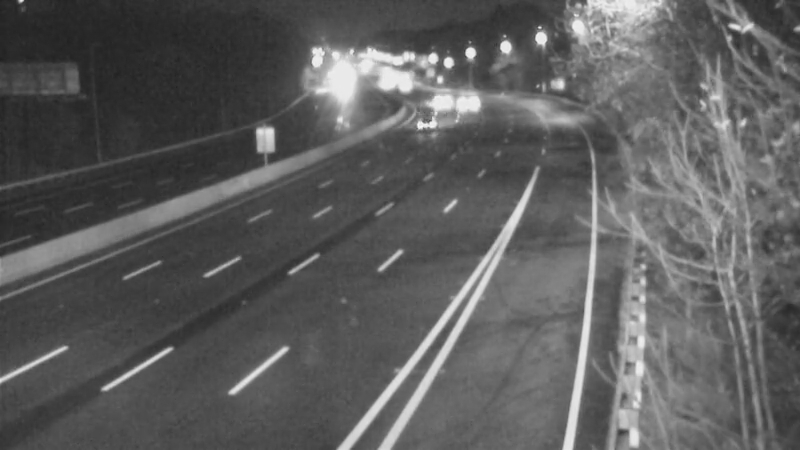vehicle: (412, 73, 462, 123), (443, 79, 493, 129), (389, 106, 439, 156)
